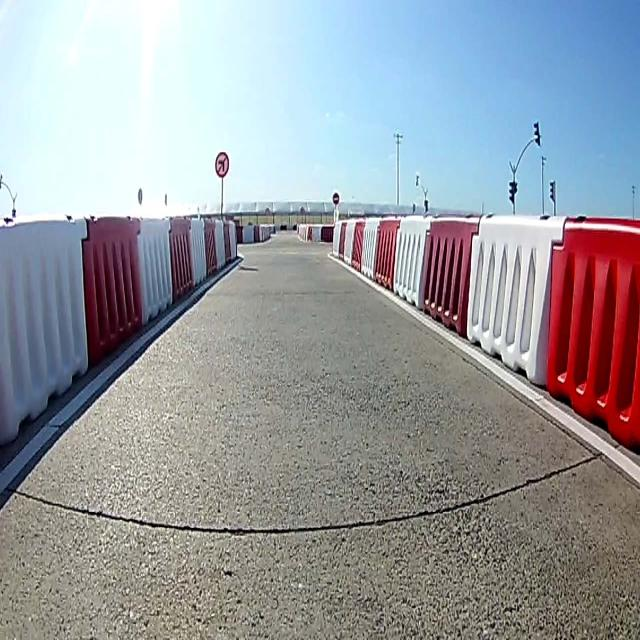girisyok: (333, 192, 339, 203)
soladonulmez: (214, 153, 228, 178)
